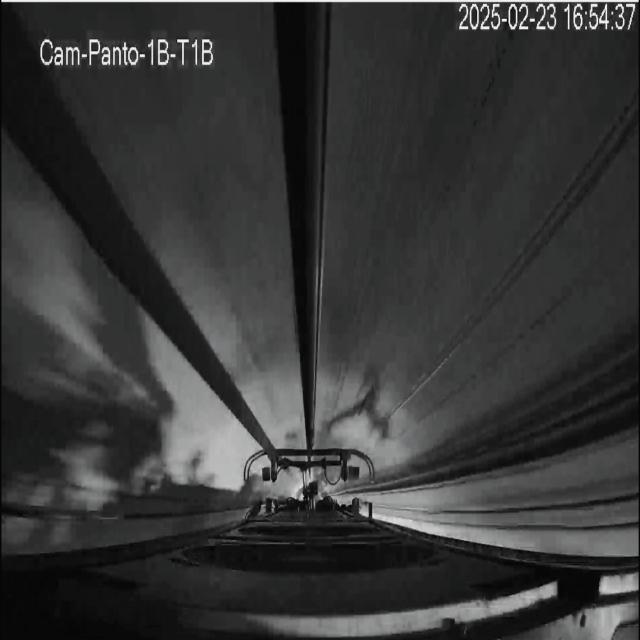Camera Stamp: (32, 25, 219, 72)
Date Stamp: (458, 3, 636, 33)
No - Spark: (245, 446, 377, 513)
